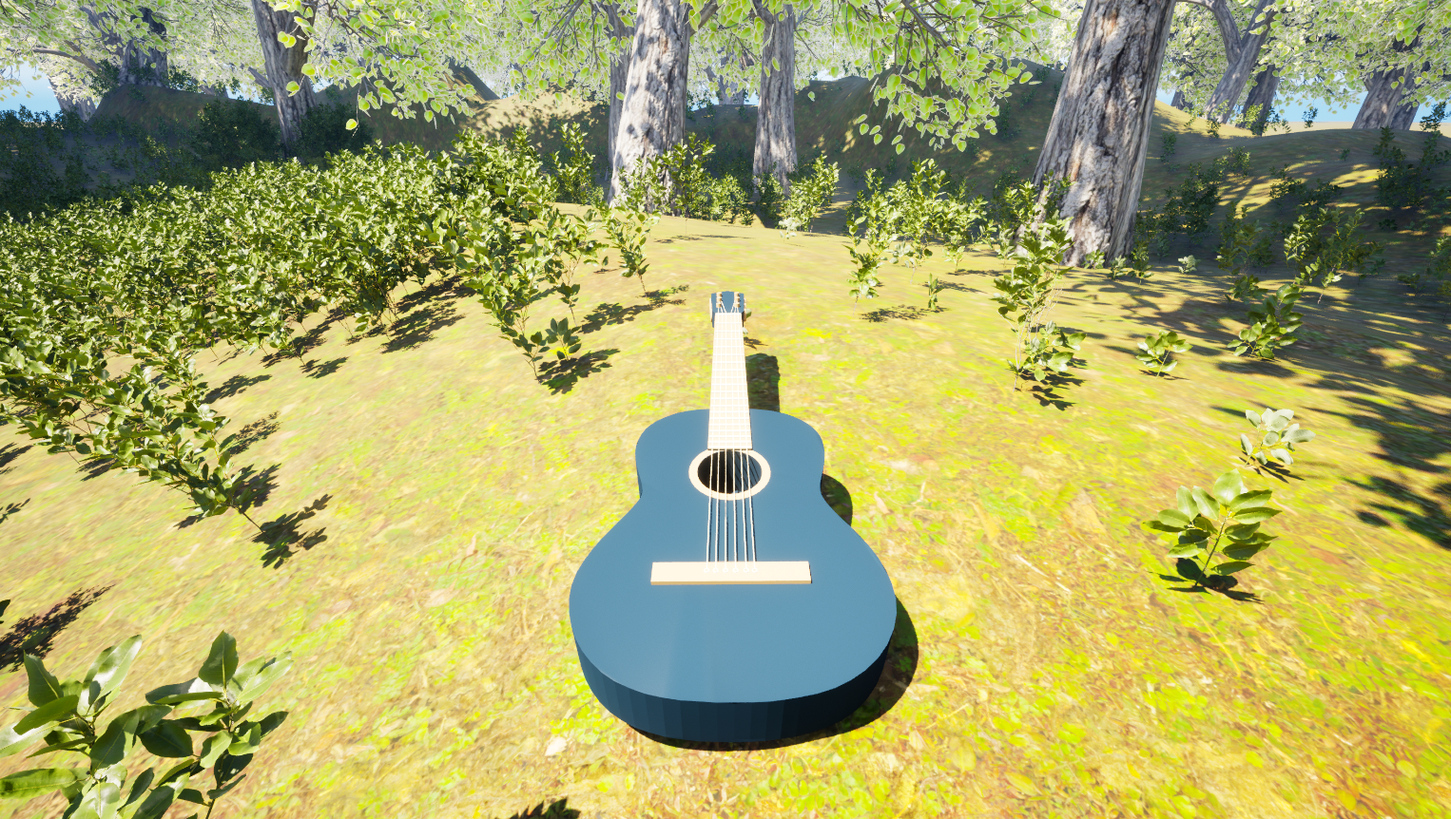Guitar: (516, 278, 955, 758)
